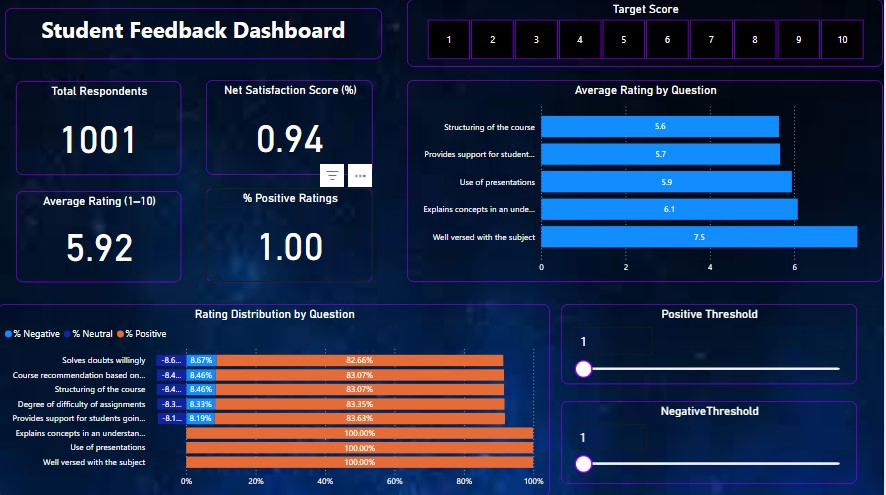

The page's visual inventory and layout, read from the dashboard file:
{"tool":"powerbi","page":{"name":"Executive Summary","canvas":[1280,720],"ordinal":0},"visuals":[{"type":"slicer","title":"Positive Threshold","fields":{"Values":["Positive Threshold.Positive Threshold"]},"box":[814,441,428,115.7],"z":0},{"type":"slicer","title":"Target Score","fields":{"Values":["Target Score.Target Score"]},"box":[591.3,0,688.2,98.3],"z":2000},{"type":"clusteredBarChart","title":"Average Rating by Question","fields":{"Category":["Feedback.Question"],"Y":["measure.Question Average"]},"box":[591.3,117.1,688.2,292],"z":2001},{"type":"hundredPercentStackedBarChart","title":"Rating Distribution by Question","fields":{"Category":["Feedback.Question"],"Y":["measure.% Negative","measure.% Neutral","measure.% Positive"]},"box":[0,441,798.1,279],"z":2002},{"type":"card","title":"Average Rating (1–10)","fields":{"Values":["measure.Average Rating"]},"box":[26,277.6,238.6,131.6],"z":2003},{"type":"card","title":"Net Satisfaction Score (%)","fields":{"Values":["measure.Net Satisfaction %"]},"box":[300.7,117.1,241.4,137.3],"z":2004},{"type":"card","title":"% Positive Ratings","fields":{"Values":["measure.% Positive"]},"box":[300.7,273.3,241.4,135.9],"z":2005},{"type":"card","title":"Total Respondents","fields":{"Values":["measure.Total Students"]},"box":[26,118.6,238.6,135.9],"z":2006},{"type":"textbox","box":[10.1,13,545.1,73.7],"z":2007},{"type":"slicer","title":"NegativeThreshold","fields":{"Values":["Negative Threshold.Negative Threshold"]},"box":[814,581.2,428,120],"z":2008}]}

Visuals, with their boxes in screenshot pixels (x1, y1, x2, y2), scaled from the page's 1280x720 canvas onto the 886x495 screenshot:
"Positive Threshold" slicer: 563 303 860 383
"Target Score" slicer: 409 0 885 68
"Average Rating by Question" clusteredBarChart: 409 81 885 281
"Rating Distribution by Question" hundredPercentStackedBarChart: 0 303 552 494
"Average Rating (1–10)" card: 18 191 183 281
"Net Satisfaction Score (%)" card: 208 81 375 175
"% Positive Ratings" card: 208 188 375 281
"Total Respondents" card: 18 82 183 175
textbox: 7 9 384 60
"NegativeThreshold" slicer: 563 400 860 482
